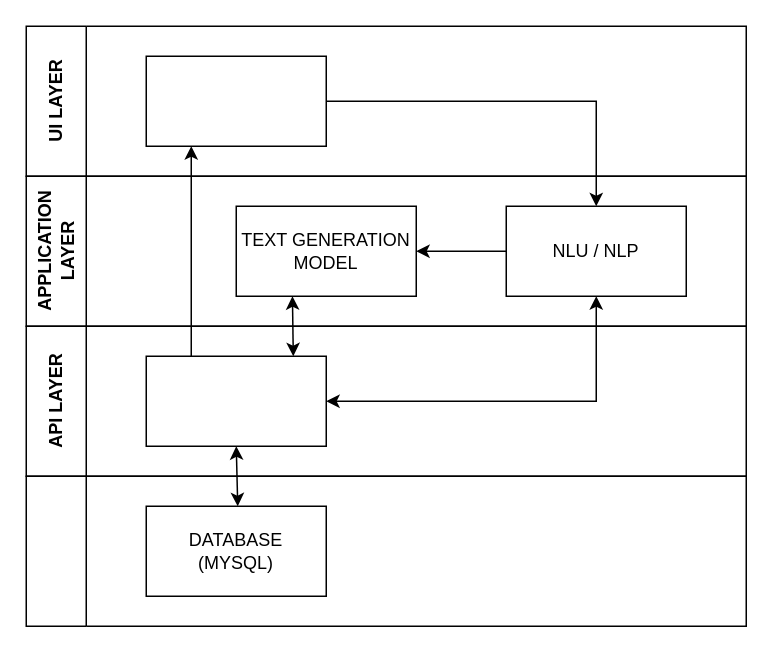
The diagram is 773 pixels wide and 653 high, and some of its shapes have lost their labels. Each missing label, with the box of its shape:
API (FLASK): (145, 355, 326, 446)
DATA LAYER: (25, 475, 746, 626)
UI LAYER (REACT JS): (145, 55, 326, 146)
